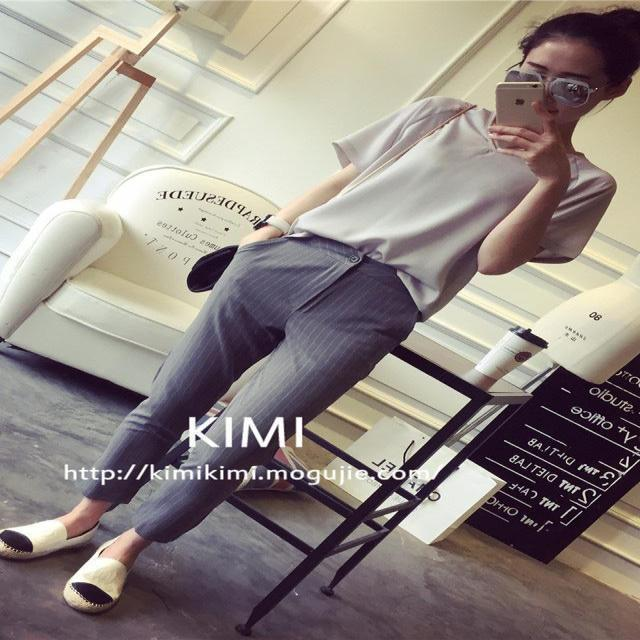short sleeve top: (290, 97, 610, 319)
trousers: (78, 227, 434, 542)
